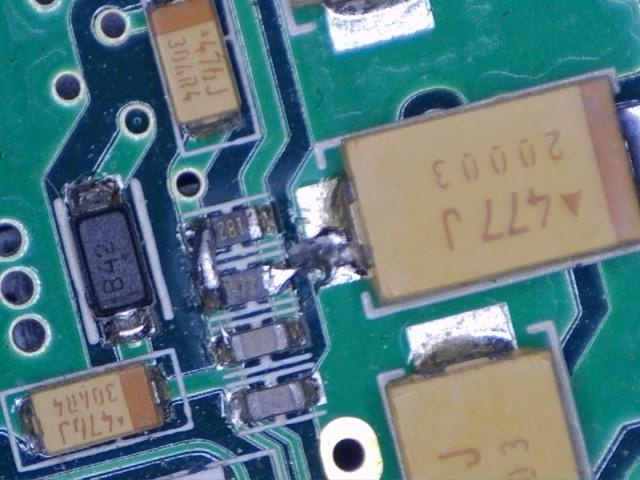pcb_defect: (258, 176, 367, 297), (181, 218, 238, 315)
